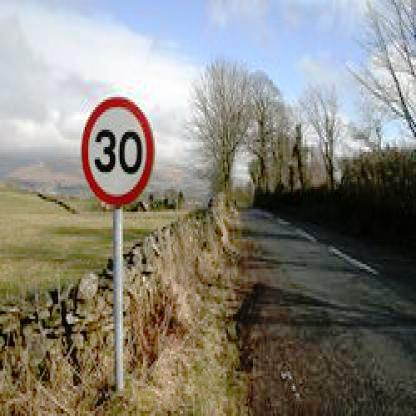Speed Limit -30-: (76, 97, 156, 210)
